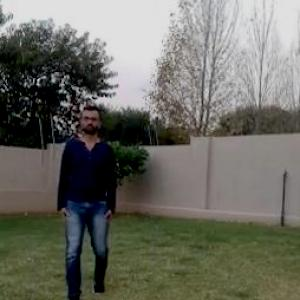follow: (61, 100, 111, 299)
